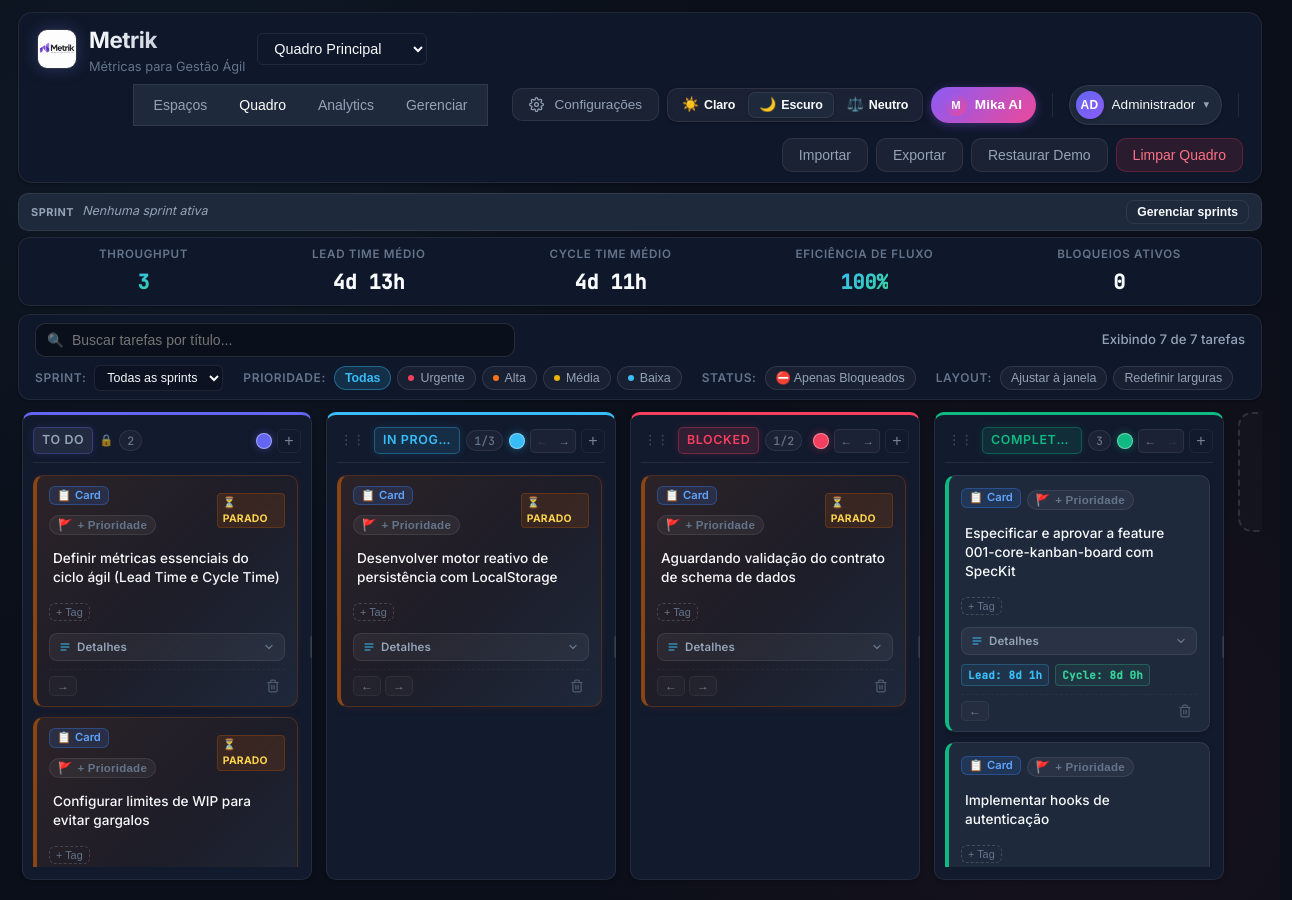
Test case: Global Board Actions (US5) › clears all tasks when user confirms dialog
Click the button "Limpar Quadro" at (1179,155), box [1116, 138, 1243, 172]
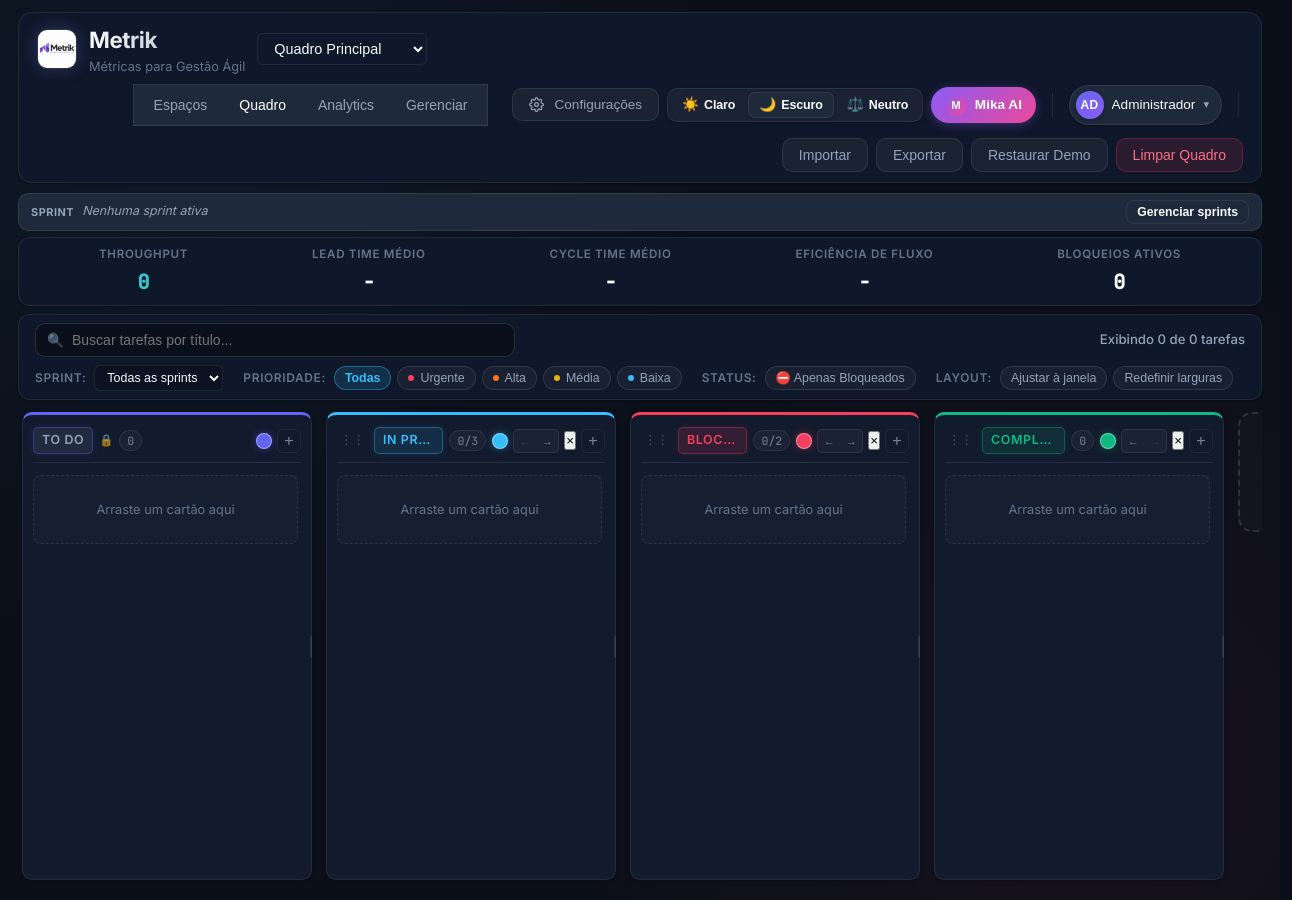
Expected: the button "0/3" is shown, [450, 430, 486, 451]
Expected: the button "0/2" is shown, [754, 430, 790, 451]
